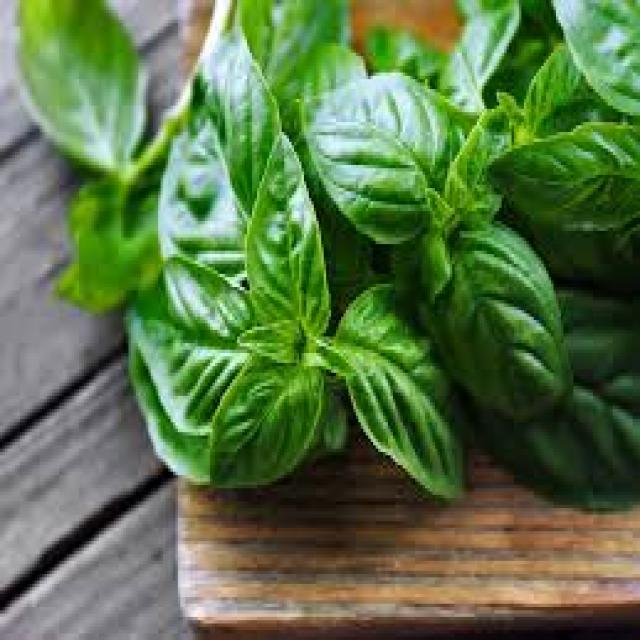organic waste: (151, 6, 326, 330), (121, 294, 346, 485), (462, 280, 638, 502), (412, 212, 570, 412), (331, 274, 470, 495), (474, 122, 638, 294), (299, 66, 452, 234), (12, 0, 146, 168), (242, 129, 334, 330), (403, 122, 509, 290), (282, 112, 373, 307), (203, 350, 326, 485), (480, 36, 632, 142), (235, 0, 348, 132), (57, 175, 163, 307), (548, 0, 637, 115), (430, 0, 516, 112), (477, 0, 561, 112), (238, 310, 354, 379), (166, 251, 252, 340), (358, 23, 445, 89), (324, 277, 331, 290)
